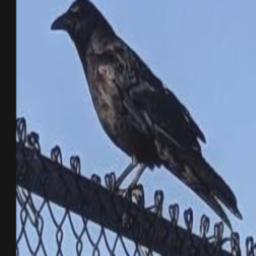Crow: (50, 0, 243, 233)
